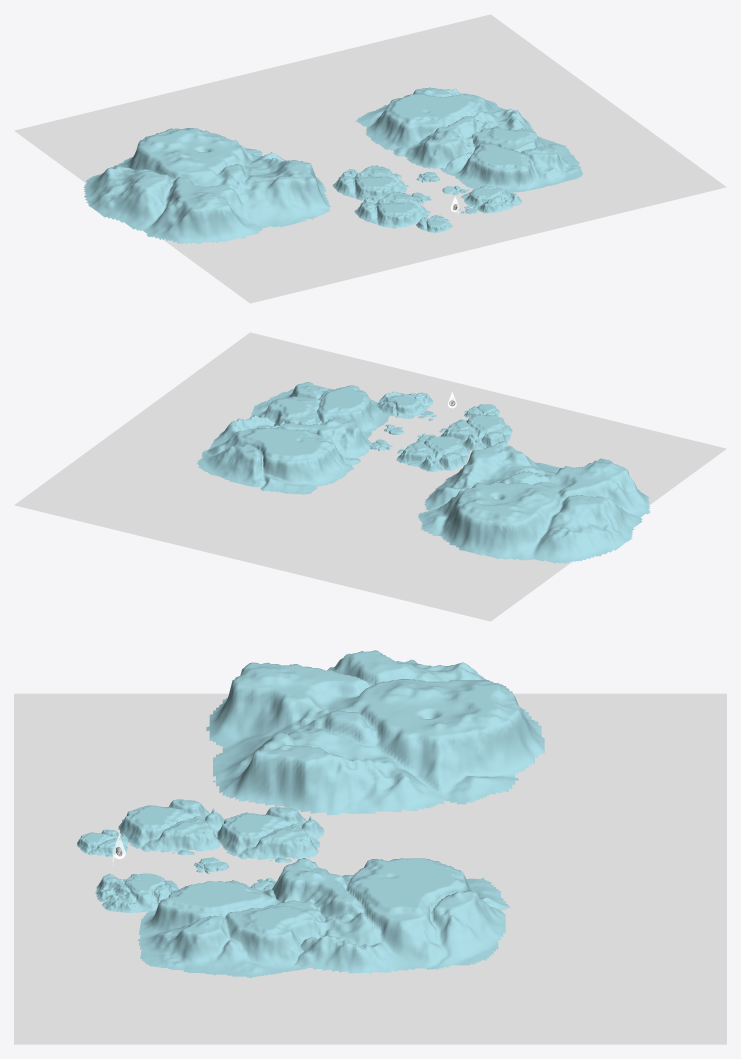
The model's file is THEME_REVEAL_GRID.gltf.
3 views of the same model, one above another, from view 1: azimuth 30°, elevation 25°; view 2: azimuth 150°, elevation 25°; view 3: azimuth 270°, elevation 25° (orthographic). The views are drawn at different scales.
Visible parts, largest first — view 1: Water, Landscape.014, Landscape.002, Landscape.006, Landscape.010, Landscape.003, Landscape, Landscape.001; view 2: Water, Landscape.014, Landscape.002, Landscape.006, Landscape.003, Landscape.010, Landscape; view 3: Water, Landscape.014, Landscape.002, Landscape.006, Landscape.003, Landscape.010, Landscape, Landscape.001.
Part boxes in pixels (x1=…): Water: x1=14, y1=14, x2=726, y2=303; Landscape.014: x1=83, y1=128, x2=330, y2=244; Landscape.002: x1=355, y1=87, x2=534, y2=168; Landscape.006: x1=440, y1=127, x2=582, y2=192; Landscape.010: x1=354, y1=191, x2=430, y2=228; Landscape.003: x1=332, y1=165, x2=408, y2=200; Landscape: x1=460, y1=185, x2=522, y2=213; Landscape.001: x1=416, y1=215, x2=452, y2=233; Water: x1=14, y1=332, x2=726, y2=621; Landscape.014: x1=418, y1=441, x2=650, y2=563; Landscape.002: x1=197, y1=414, x2=371, y2=494; Landscape.006: x1=250, y1=382, x2=389, y2=438; Landscape.003: x1=396, y1=436, x2=470, y2=471; Landscape.010: x1=439, y1=415, x2=512, y2=450; Landscape: x1=376, y1=391, x2=433, y2=418; Water: x1=14, y1=693, x2=726, y2=1044; Landscape.014: x1=206, y1=650, x2=544, y2=815; Landscape.002: x1=272, y1=858, x2=510, y2=973; Landscape.006: x1=137, y1=880, x2=325, y2=977; Landscape.003: x1=217, y1=807, x2=324, y2=862; Landscape.010: x1=118, y1=799, x2=224, y2=855; Landscape: x1=95, y1=873, x2=178, y2=912; Landscape.001: x1=77, y1=829, x2=129, y2=856.
Size of the model in its own units: 143 by 10.81 by 117.
5 materials, 1 textured.
